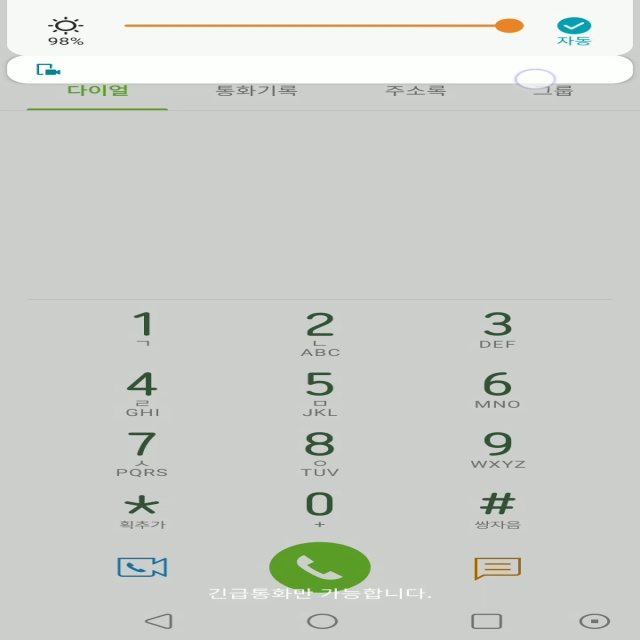Cursor: (514, 68, 559, 90)
